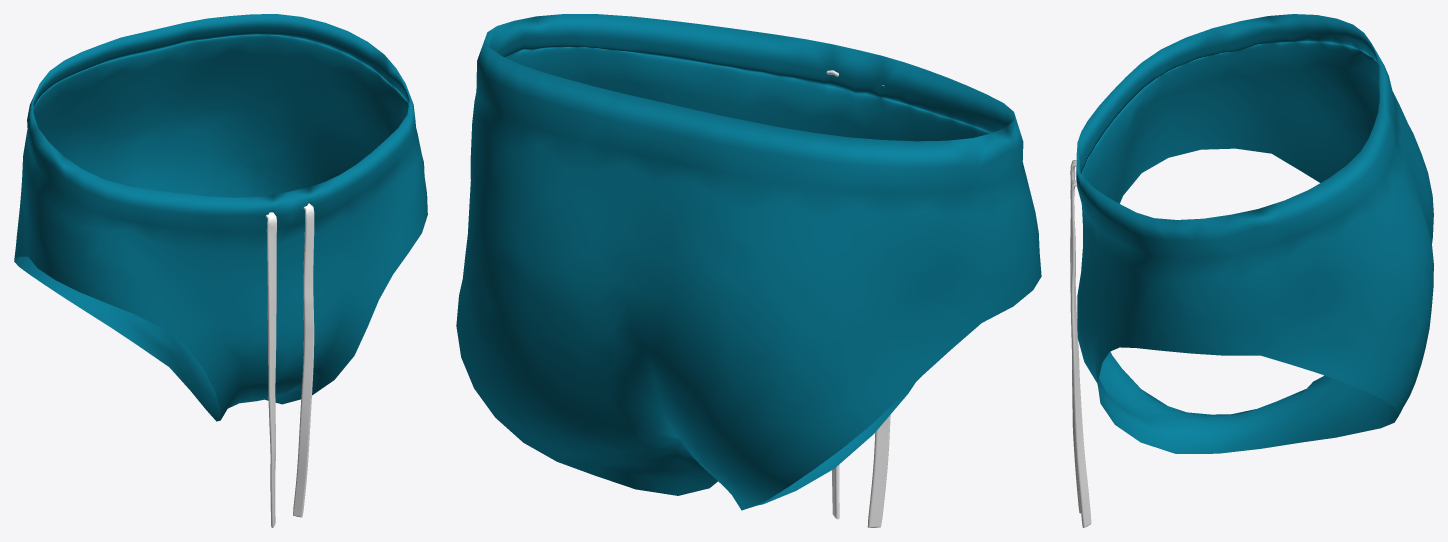
File: SwimBrief_thin_color.gltf
3 renders of one model, left to right at view 1: azimuth 30°, elevation 25°; view 2: azimuth 150°, elevation 25°; view 3: azimuth 270°, elevation 25°, orthographic. The views are drawn at different scales.
Parts seen in each view (by area): view 1: Cloth, Trim; view 2: Cloth, Trim; view 3: Cloth, Trim.
Part boxes in pixels (bbox=[...]): Cloth: bbox=[14, 14, 427, 421]; Trim: bbox=[265, 203, 314, 527]; Cloth: bbox=[456, 14, 1041, 510]; Trim: bbox=[826, 70, 890, 527]; Cloth: bbox=[1076, 14, 1433, 453]; Trim: bbox=[1070, 160, 1091, 527].
Bounding box in the file's own units: 34.49 × 35.2 × 26.41.
